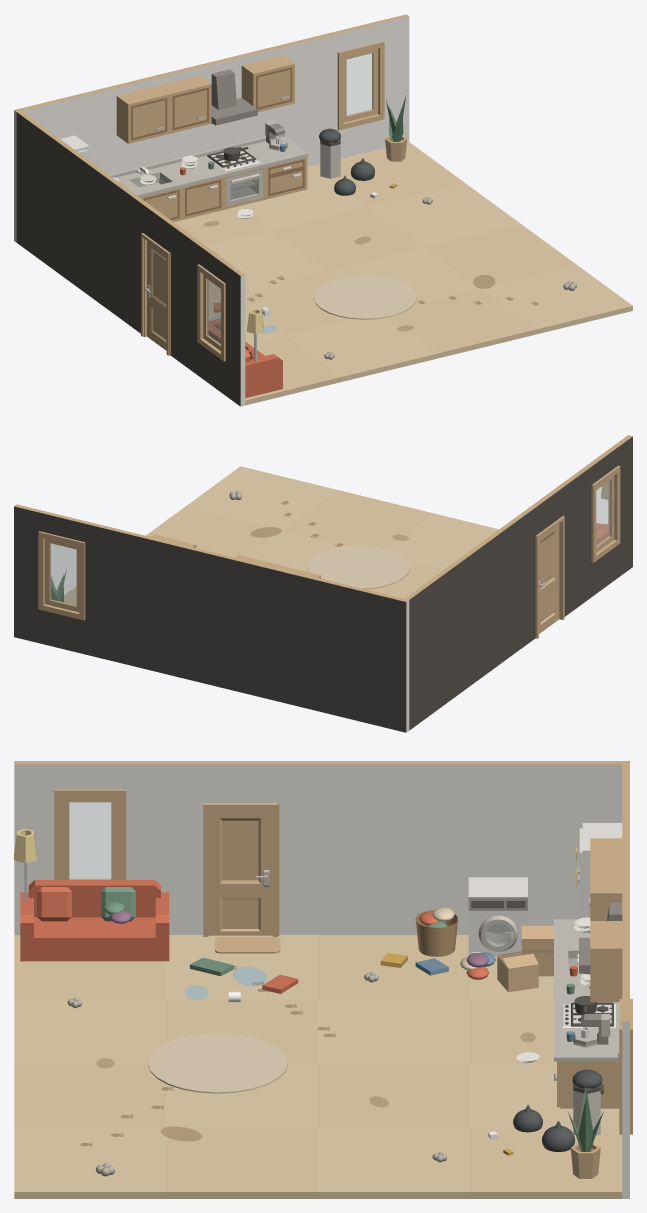
Rendered from room-main.glb.
3 views of the same model, one above another, from view 1: azimuth 30°, elevation 25°; view 2: azimuth 150°, elevation 25°; view 3: azimuth 270°, elevation 25° (orthographic). The views are drawn at different scales.
Visible parts, largest first — view 1: floorFull(Clone) (×14), Mesh_wall_2 (×2), Mesh_wall_1 (×3), Mesh_wallWindow_2 (×2), Mesh_door (×6), Mesh_wallWindow_1, Mesh_wallDoorway_2, kitchenCabinetUpper(Clone) (×3), Mesh_wallWindow (×2), Mesh_rugRound, Mesh_window (×2), Mesh_loungeSofa (+11 smaller); view 2: Mesh_wall_2 (×6), floorFull(Clone) (×6), Mesh_wallWindow_1 (×2), Mesh_wallDoorway_2, Mesh_wallWindow (×2), Mesh_rugRound, Mesh_window (×2), Mesh_door, Mesh_window_1 (×2), Mesh_wallDoorway_1, Mesh_rugRound_1, mess_cleaning_3 (+1 smaller); view 3: floorFull(Clone) (×16), Mesh_wall_1 (×2), Mesh_wallDoorway, Mesh_wallWindow_2 (×2), Mesh_loungeSofa, Mesh_door, Mesh_rugRound, kitchenCabinetUpper(Clone) (×3), Mesh_wallWindow (×2), Mesh_window, Mesh_washer, Mesh_kitchenCabinetDrawer (×2) (+28 smaller).
Part boxes in pixels (left/top/right/bottom): floorFull(Clone) (×14): left=174, top=142, right=632, bottom=405; Mesh_wall_2 (×2): left=16, top=112, right=128, bottom=324; Mesh_wall_1 (×3): left=22, top=40, right=312, bottom=174; Mesh_wallWindow_2 (×2): left=240, top=16, right=409, bottom=406; Mesh_door (×6): left=133, top=70, right=290, bottom=350; Mesh_wallWindow_1: left=184, top=235, right=240, bottom=406; Mesh_wallDoorway_2: left=128, top=194, right=184, bottom=365; kitchenCabinetUpper(Clone) (×3): left=116, top=55, right=294, bottom=143; Mesh_wallWindow (×2): left=185, top=14, right=408, bottom=361; Mesh_rugRound: left=313, top=275, right=416, bottom=319; Mesh_window (×2): left=207, top=53, right=372, bottom=344; Mesh_loungeSofa: left=208, top=318, right=282, bottom=397; Mesh_wall_2 (×6): left=111, top=518, right=520, bottom=732; floorFull(Clone) (×6): left=146, top=466, right=498, bottom=598; Mesh_wallWindow_1 (×2): left=14, top=436, right=632, bottom=660; Mesh_wallDoorway_2: left=521, top=477, right=576, bottom=648; Mesh_wallWindow (×2): left=14, top=435, right=632, bottom=620; Mesh_rugRound: left=307, top=545, right=409, bottom=589; Mesh_window (×2): left=50, top=481, right=610, bottom=605; Mesh_door: left=539, top=523, right=559, bottom=633; Mesh_window_1 (×2): left=45, top=476, right=614, bottom=612; Mesh_wallDoorway_1: left=517, top=476, right=576, bottom=638; Mesh_rugRound_1: left=318, top=550, right=398, bottom=583; mess_cleaning_3: left=229, top=491, right=408, bottom=546; floorFull(Clone) (×16): left=14, top=935, right=622, bottom=1198; Mesh_wall_1 (×2): left=318, top=764, right=622, bottom=934; Mesh_wallDoorway: left=166, top=764, right=318, bottom=934; Mesh_wallWindow_2 (×2): left=14, top=764, right=629, bottom=1198; Mesh_loungeSofa: left=20, top=880, right=169, bottom=961; Mesh_door: left=209, top=808, right=272, bottom=935; Mesh_rugRound: left=148, top=1033, right=287, bottom=1093; kitchenCabinetUpper(Clone) (×3): left=590, top=838, right=622, bottom=1002; Mesh_wallWindow (×2): left=14, top=761, right=632, bottom=1134; Mesh_window: left=69, top=802, right=111, bottom=879; Mesh_washer: left=468, top=877, right=527, bottom=956; Mesh_kitchenCabinetDrawer (×2): left=554, top=919, right=619, bottom=1061.
Size of the model in its own units: 4.07 by 1.29 by 4.07.
